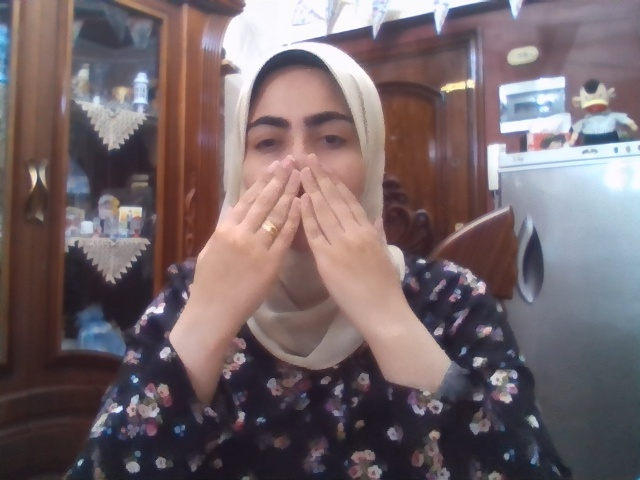thanks: (191, 153, 413, 352)
